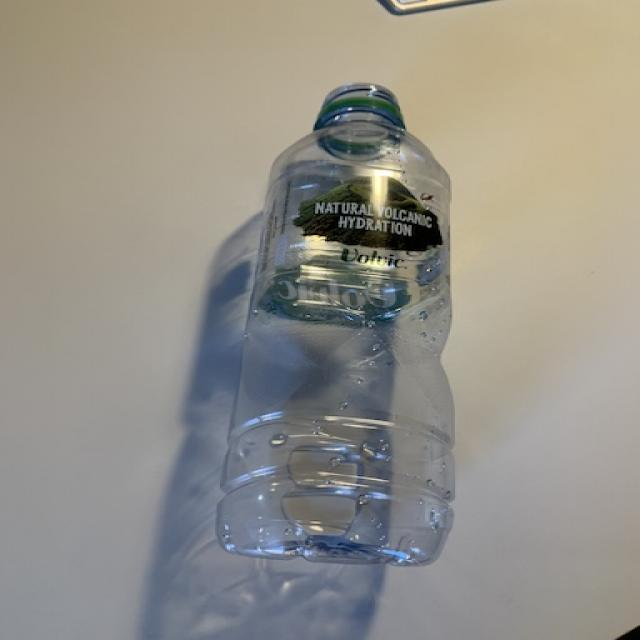Waste: (217, 84, 453, 566)
